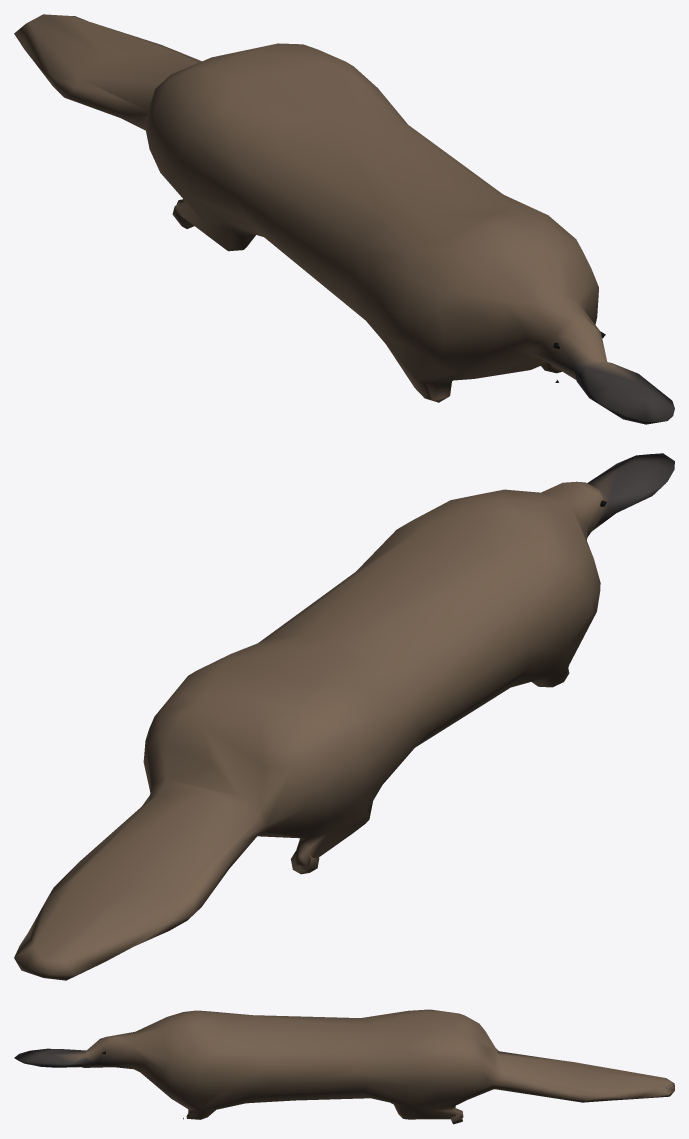
The model's file is schnabeltier.glb.
3 renders of one model, top to bottom at view 1: azimuth 30°, elevation 25°; view 2: azimuth 150°, elevation 25°; view 3: azimuth 270°, elevation 25°, orthographic. The views are drawn at different scales.
Parts seen in each view (by area): view 1: lack; view 2: lack; view 3: lack.
Boxes of the visible parts, x1,y1,x2,y2 form: lack: [14, 14, 674, 424]; lack: [14, 453, 674, 980]; lack: [14, 1009, 674, 1124].
Size of the model in its own units: 0.1422 by 0.1174 by 0.7646.
